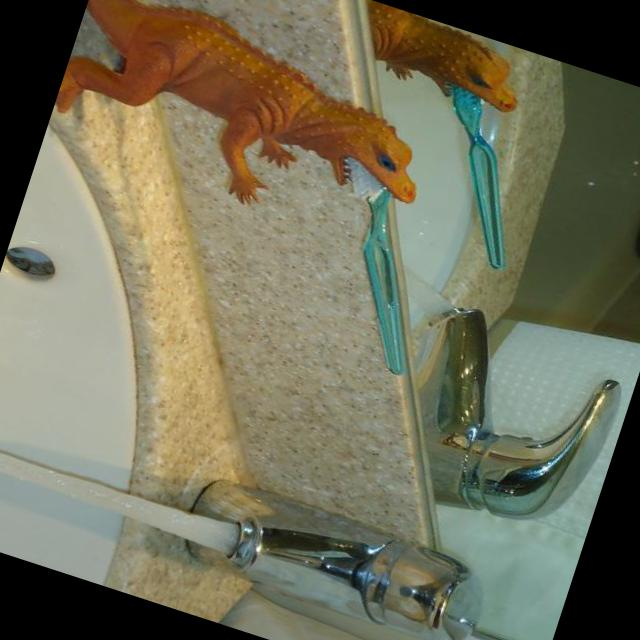sink: (0, 0, 585, 640), (300, 8, 532, 342)
toothbrush: (287, 158, 459, 377), (397, 85, 550, 269)
